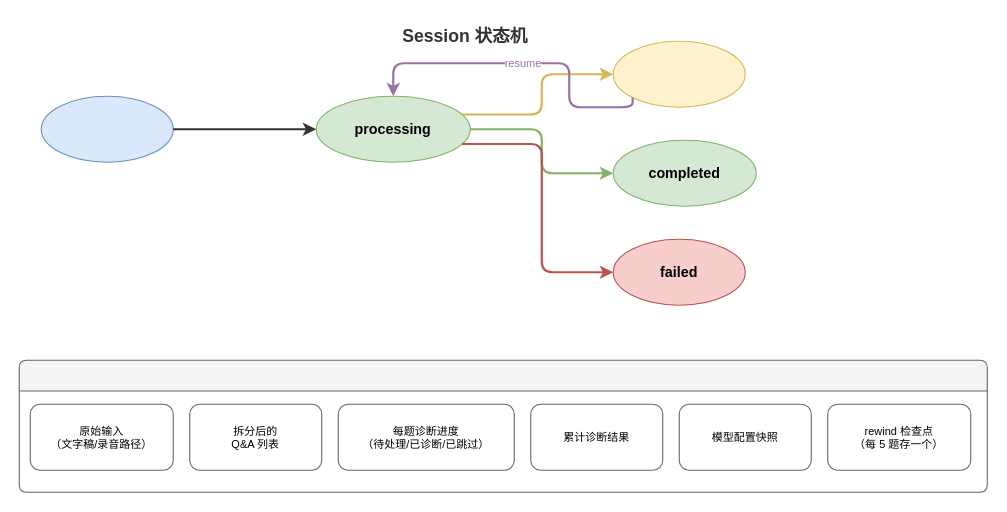
Image size: 1007x512. Some labels were removed from this diagram. The box of each missing label's shape, as (x1, y1, x2, y2) in pixels:
created: (40, 95, 173, 162)
paused: (612, 40, 745, 107)
Session 保存内容: (18, 359, 987, 492)
